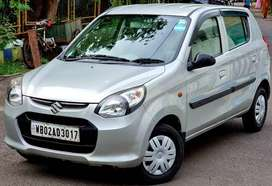WB02A03017: (30, 120, 80, 143)
